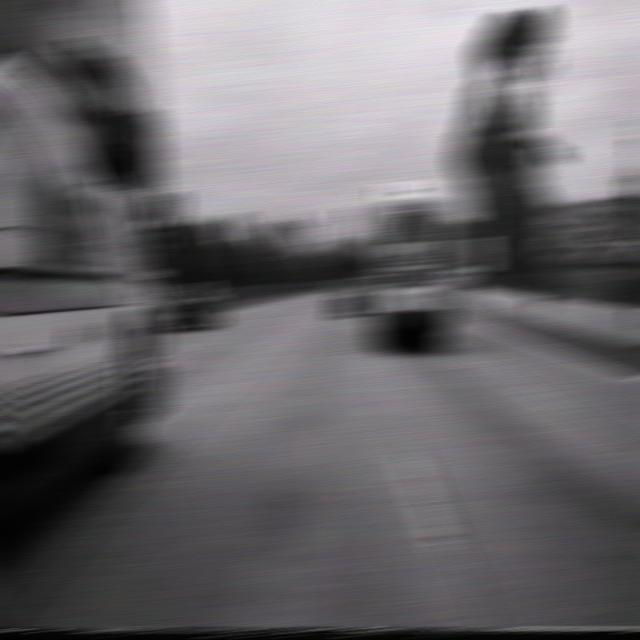speedLimit65: (470, 236, 496, 263)
